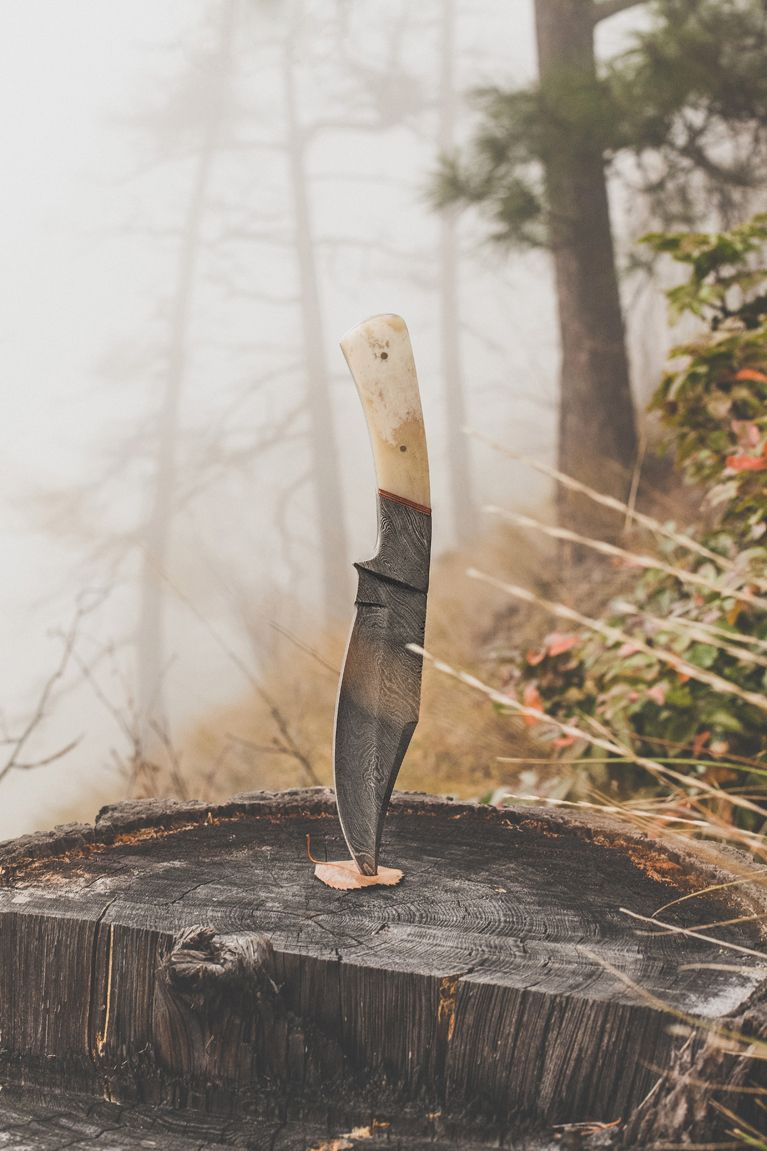knife: (310, 296, 454, 900)
